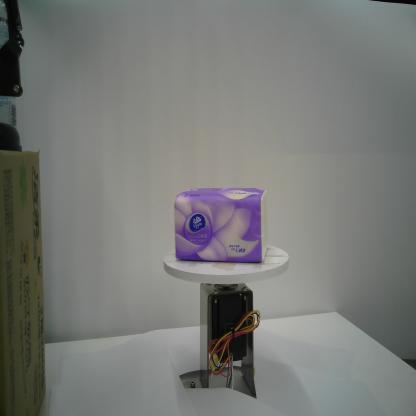Tissue: (170, 184, 269, 265)
